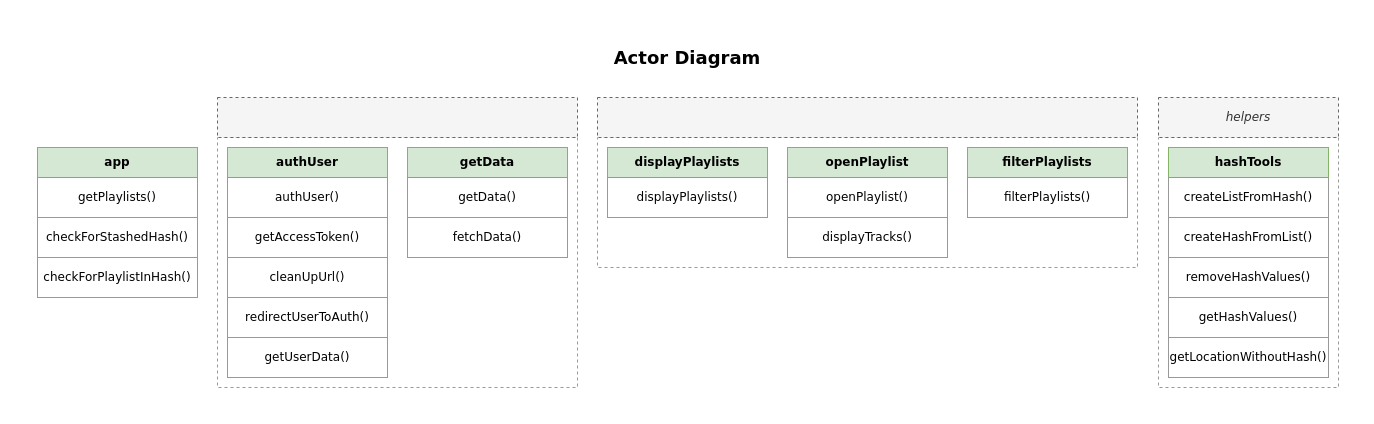
The diagram is 1374 pixels wide and 424 high, and some of its shapes have lost their labels. Here are the shapes that lost their labels. From the top down, the centre of each, then its label:
(397,117): data
(867,117): render
